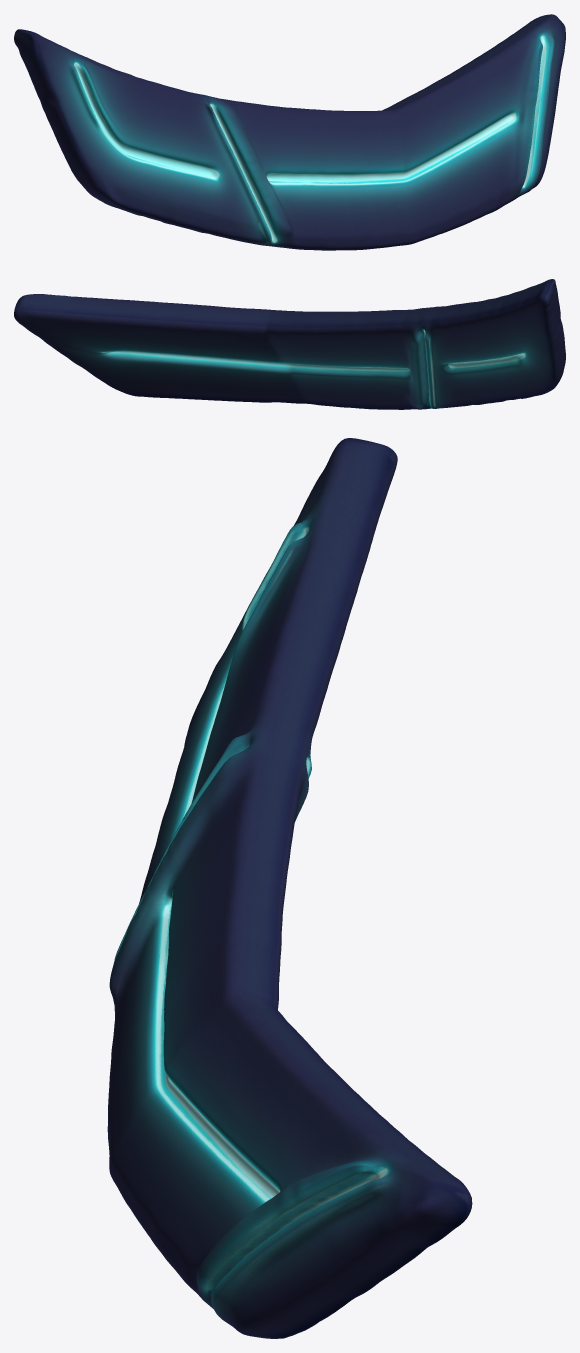
Rendered from tripo_convert_ba1c53e9-4866-4e65-8f63-fdc0166ec2a4.fbx.
3 views of the same model, one above another, from view 1: azimuth 30°, elevation 25°; view 2: azimuth 150°, elevation 25°; view 3: azimuth 270°, elevation 25° (orthographic). The views are drawn at different scales.
Visible parts, largest first — view 1: tripo_node_ba1c53e9; view 2: tripo_node_ba1c53e9; view 3: tripo_node_ba1c53e9.
Boxes of the visible parts, <box> form: tripo_node_ba1c53e9: <box>14,14,565,250</box>; tripo_node_ba1c53e9: <box>14,279,565,409</box>; tripo_node_ba1c53e9: <box>107,438,472,1338</box>.
Size of the model in its own units: 0.9786 by 0.4265 by 0.2971.
1 material, 1 textured.
